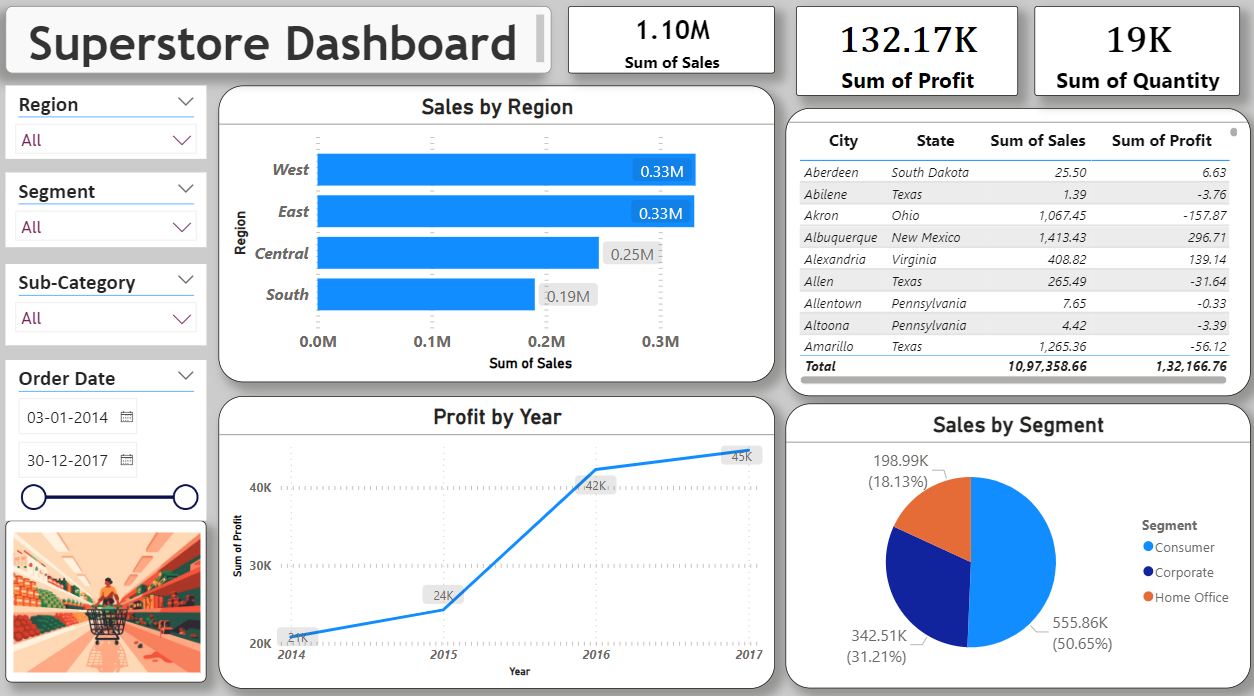

This screenshot's page, from the dashboard's own definition file:
{"tool":"powerbi","page":{"name":"Overview","canvas":[1280,720],"ordinal":0},"visuals":[{"type":"clusteredBarChart","title":"Sales by Region","fields":{"Category":["Sample - Superstore.Region"],"Y":["Sum(Sample - Superstore.Sales)"]},"box":[228.5,98.3,561.3,299.6],"z":0},{"type":"textbox","box":[13.6,18.2,550.7,68.1],"z":1000},{"type":"image","box":[13.6,537.1,202.7,163.4],"z":2000},{"type":"card","fields":{"Values":["Sum(Sample - Superstore.Profit)"]},"box":[811,18.2,223.9,90.8],"z":3000},{"type":"card","fields":{"Values":["Sum(Sample - Superstore.Sales)"]},"box":[581,18.2,208.8,68.1],"z":4000},{"type":"slicer","fields":{"Values":["Sample - Superstore.Region"]},"box":[13.6,98.3,202.7,74.1],"z":5000},{"type":"lineChart","title":"Profit by Year","fields":{"Y":["Sum(Sample - Superstore.Profit)"],"Category":["Sample - Superstore.Order Date.Variation.Date Hierarchy.Year"]},"box":[228.5,411.5,561.3,295],"z":6000},{"type":"slicer","fields":{"Values":["Sample - Superstore.Segment"]},"box":[13.6,186.1,202.7,75.7],"z":7000},{"type":"slicer","fields":{"Values":["Sample - Superstore.Sub-Category"]},"box":[13.6,278.4,202.7,81.7],"z":8000},{"type":"tableEx","fields":{"Values":["Sample - Superstore.City","Sample - Superstore.State","Sum(Sample - Superstore.Sales)","Sum(Sample - Superstore.Profit)"]},"box":[800.4,121,469,290.5],"z":9000},{"type":"slicer","fields":{"Values":["Sample - Superstore.Order Date"]},"box":[13.6,375.2,202.7,161.9],"z":10000},{"type":"card","fields":{"Values":["Sum(Sample - Superstore.Quantity)"]},"box":[1051.5,18.2,207.3,90.8],"z":11000},{"type":"pieChart","title":"Sales by Segment","fields":{"Y":["Sum(Sample - Superstore.Sales)"],"Category":["Sample - Superstore.Segment"]},"box":[800.4,419.1,469,287.5],"z":12000}]}

Visuals, with their boxes in screenshot pixels (x1, y1, x2, y2), scaled from the page's 1280x720 canvas onto the 1254x696 screenshot:
"Sales by Region" clusteredBarChart: bbox(224, 95, 774, 385)
textbox: bbox(13, 18, 553, 83)
image: bbox(13, 519, 212, 677)
card - Sum(Sample - Superstore.Profit): bbox(795, 18, 1014, 105)
card - Sum(Sample - Superstore.Sales): bbox(569, 18, 774, 83)
slicer - Sample - Superstore.Region: bbox(13, 95, 212, 167)
"Profit by Year" lineChart: bbox(224, 398, 774, 683)
slicer - Sample - Superstore.Segment: bbox(13, 180, 212, 253)
slicer - Sample - Superstore.Sub-Category: bbox(13, 269, 212, 348)
tableEx - Sample - Superstore.City x Sample - Superstore.State: bbox(784, 117, 1244, 398)
slicer - Sample - Superstore.Order Date: bbox(13, 363, 212, 519)
card - Sum(Sample - Superstore.Quantity): bbox(1030, 18, 1233, 105)
"Sales by Segment" pieChart: bbox(784, 405, 1244, 683)
